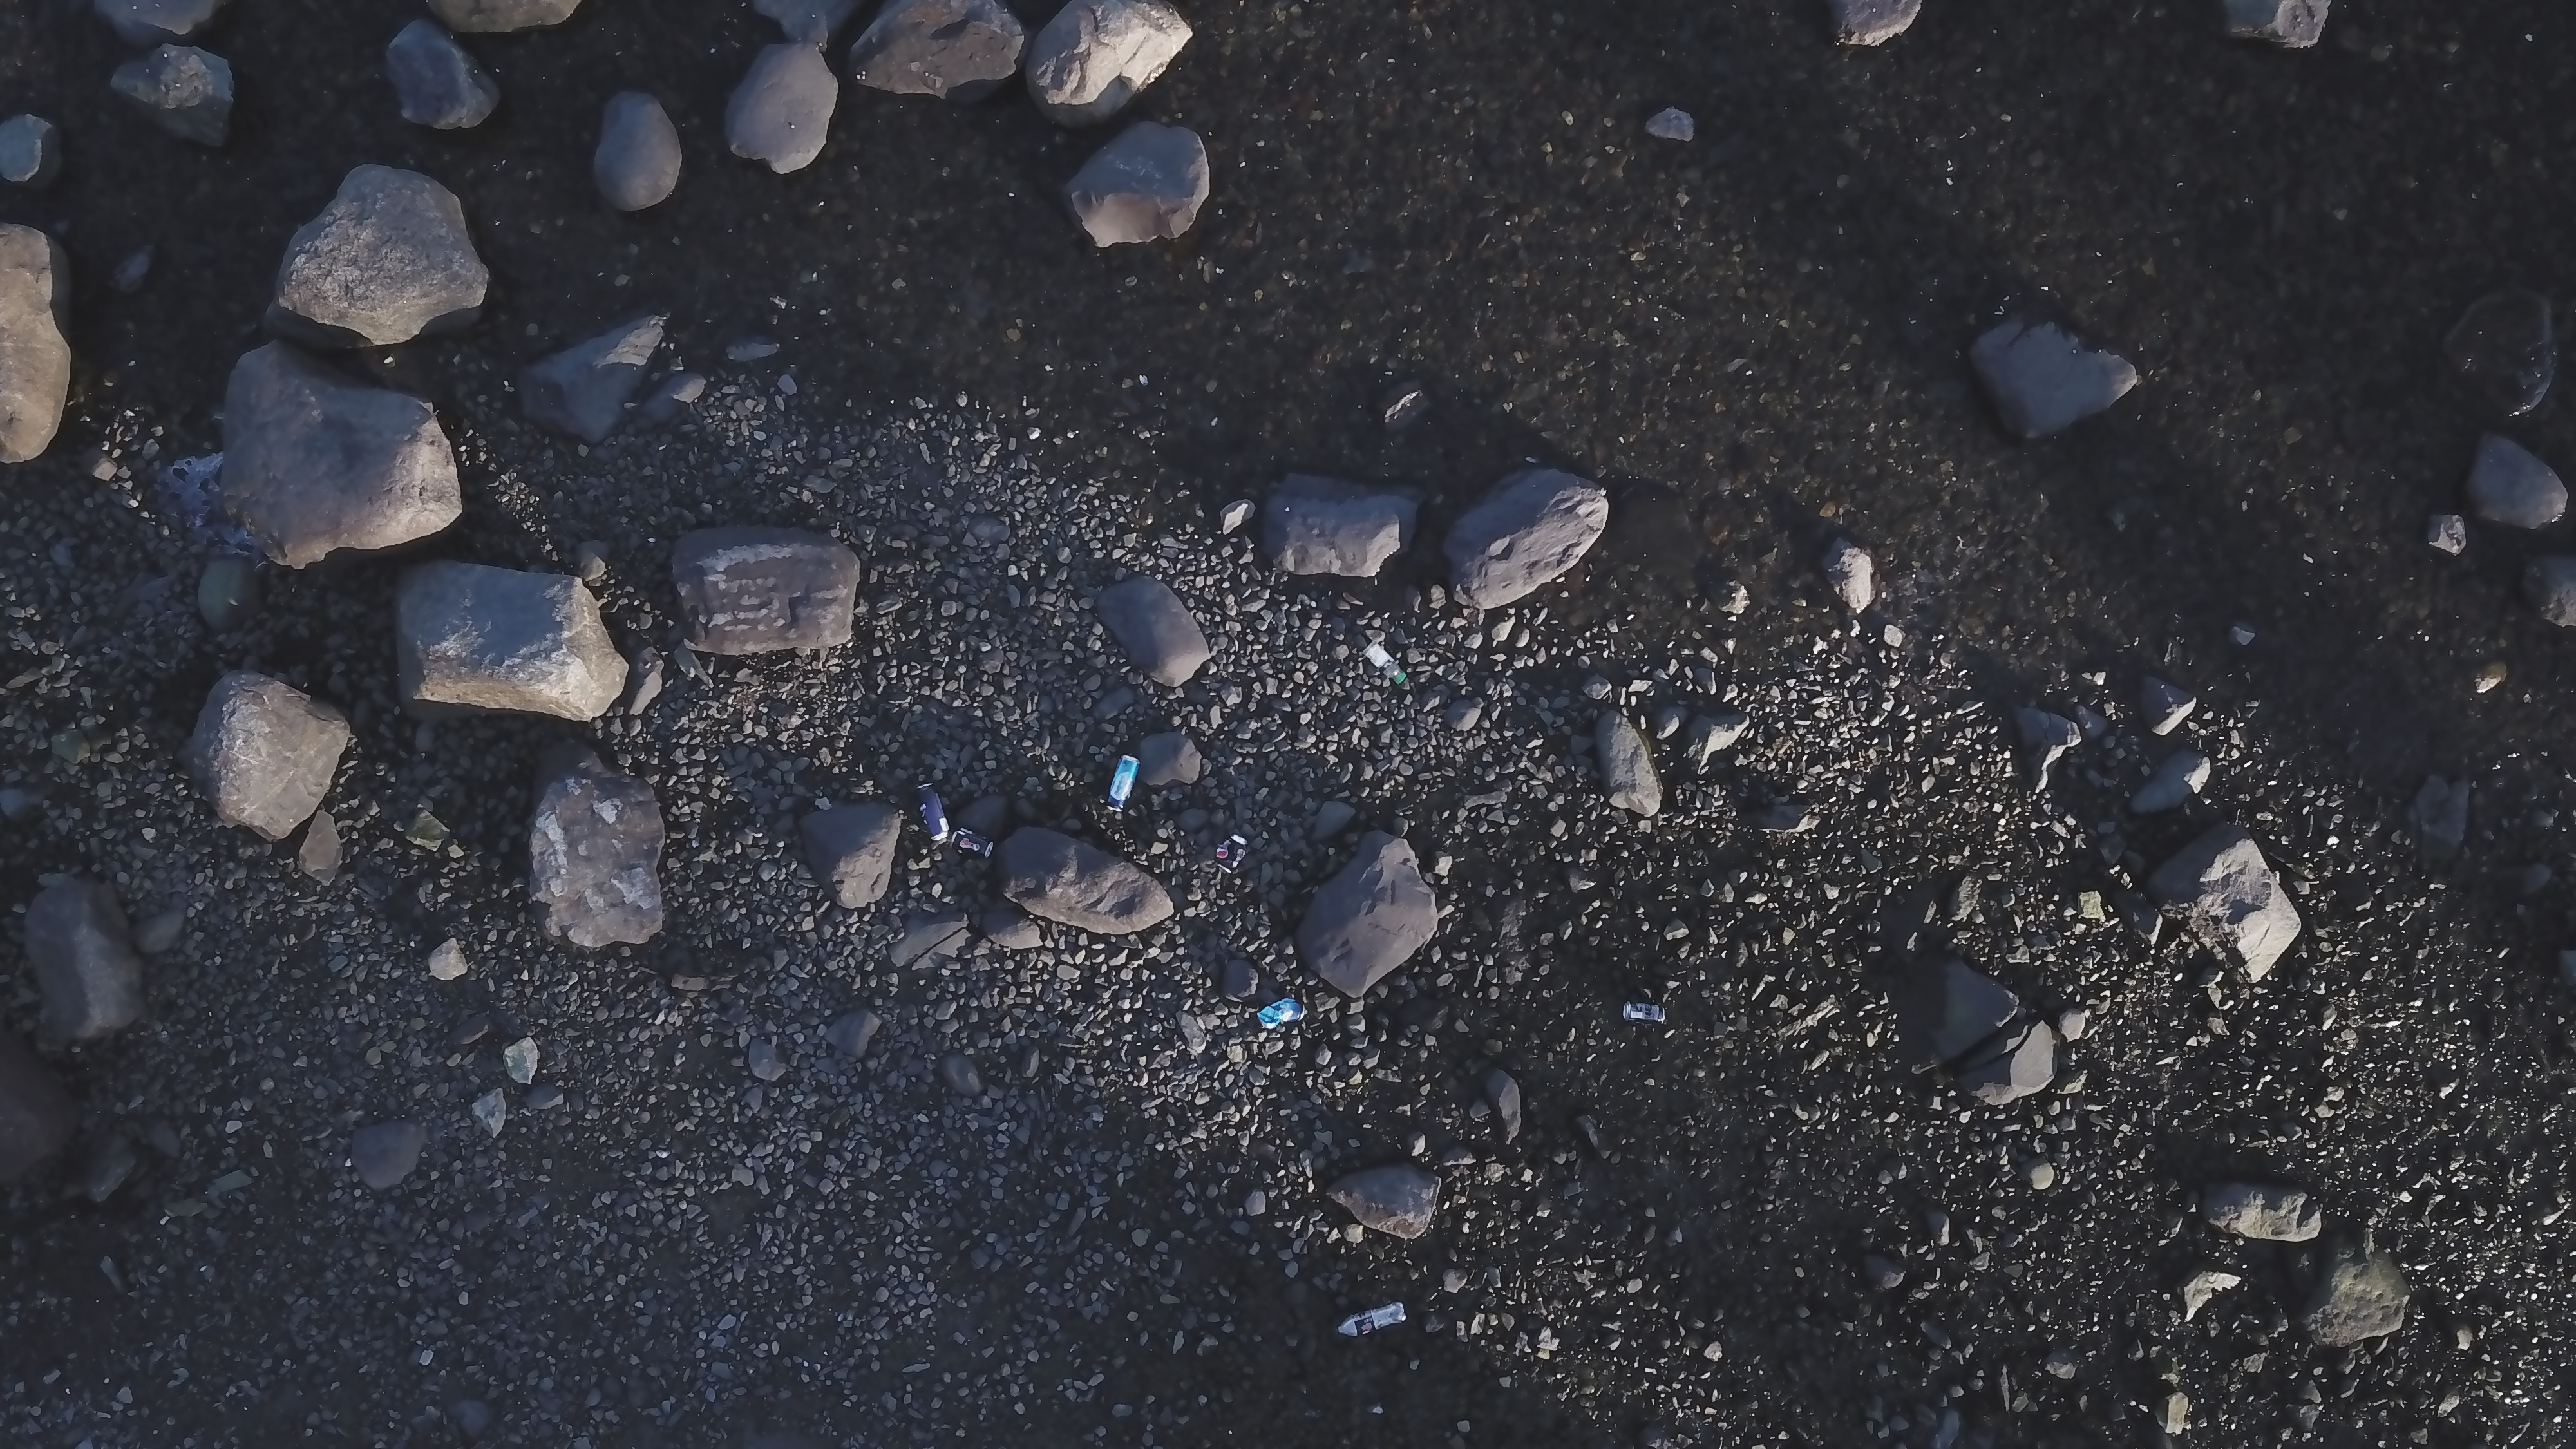Can: (908, 782, 954, 846), (1251, 996, 1313, 1031), (1108, 755, 1139, 817), (947, 826, 996, 862), (1217, 833, 1249, 879), (1617, 1001, 1668, 1028)
PlasticBottle: (1332, 1302, 1410, 1339), (1362, 644, 1410, 688)
